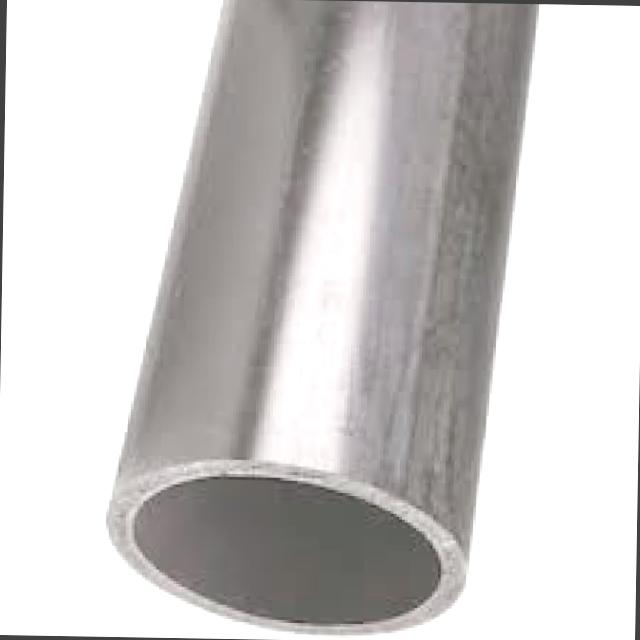gas: (108, 2, 536, 632)
